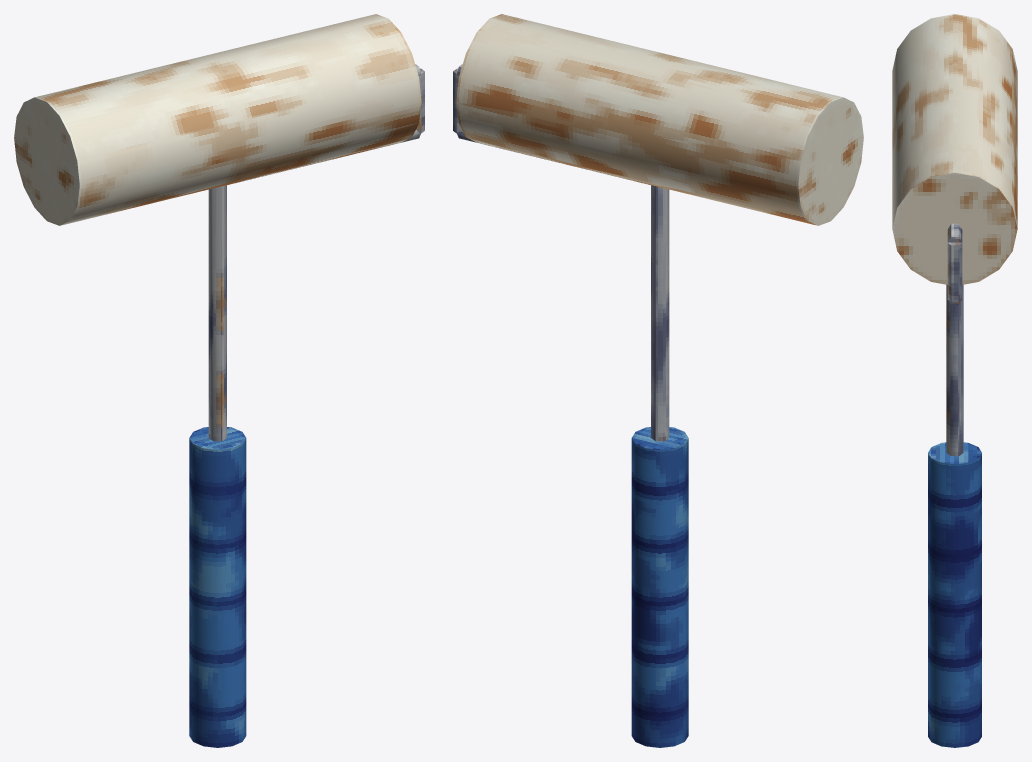
File: roller_m.glb
3 views of the same model, side by side, from view 1: azimuth 30°, elevation 25°; view 2: azimuth 150°, elevation 25°; view 3: azimuth 270°, elevation 25° (orthographic). The views are drawn at different scales.
Parts seen in each view (by area): view 1: mesh; view 2: mesh; view 3: mesh.
Part boxes in pixels (left/top/right/bottom): mesh: left=14, top=14, right=424, bottom=747; mesh: left=453, top=14, right=863, bottom=747; mesh: left=892, top=14, right=1017, bottom=747.
Size of the model in its own units: 0.198 by 0.34 by 0.06.
1 material, 1 textured.
